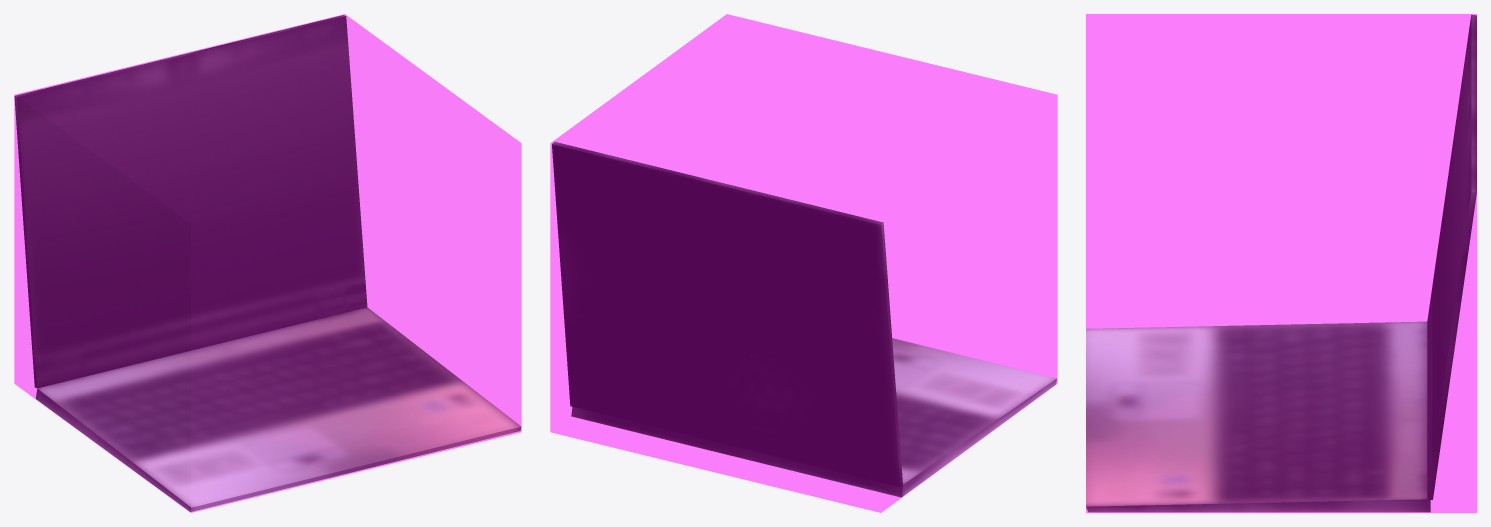
The model's file is notebook_pc.fbx.
The picture shows the model from 3 angles, left to right: view 1: azimuth 30°, elevation 25°; view 2: azimuth 150°, elevation 25°; view 3: azimuth 270°, elevation 25°; orthographic projection. The views are drawn at different scales.
Visible parts, largest first — view 1: note_pc_boundingBox, note_pc; view 2: note_pc_boundingBox, note_pc; view 3: note_pc_boundingBox, note_pc.
Part boxes in pixels (<box>): note_pc_boundingBox: <box>14,14,521,512</box>; note_pc: <box>14,15,521,511</box>; note_pc_boundingBox: <box>550,14,1057,512</box>; note_pc: <box>552,141,1056,497</box>; note_pc_boundingBox: <box>1086,14,1476,512</box>; note_pc: <box>1086,14,1476,512</box>.
Bounding box in the file's own units: 22.23 × 18.58 × 20.55.
Materials: 2 (1 with a texture image).
